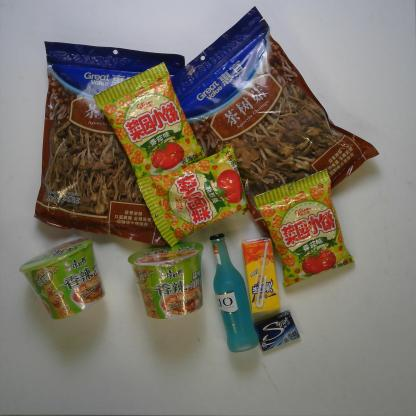Alcohol: (206, 231, 260, 355)
Dried Food: (169, 3, 382, 235), (30, 39, 187, 249)
Drink: (240, 233, 281, 315)
Gum: (252, 308, 302, 354)
Instant Noodles: (17, 236, 108, 322), (126, 240, 206, 322)
Puffed Food: (92, 59, 208, 181), (252, 167, 356, 290), (136, 142, 250, 251)
